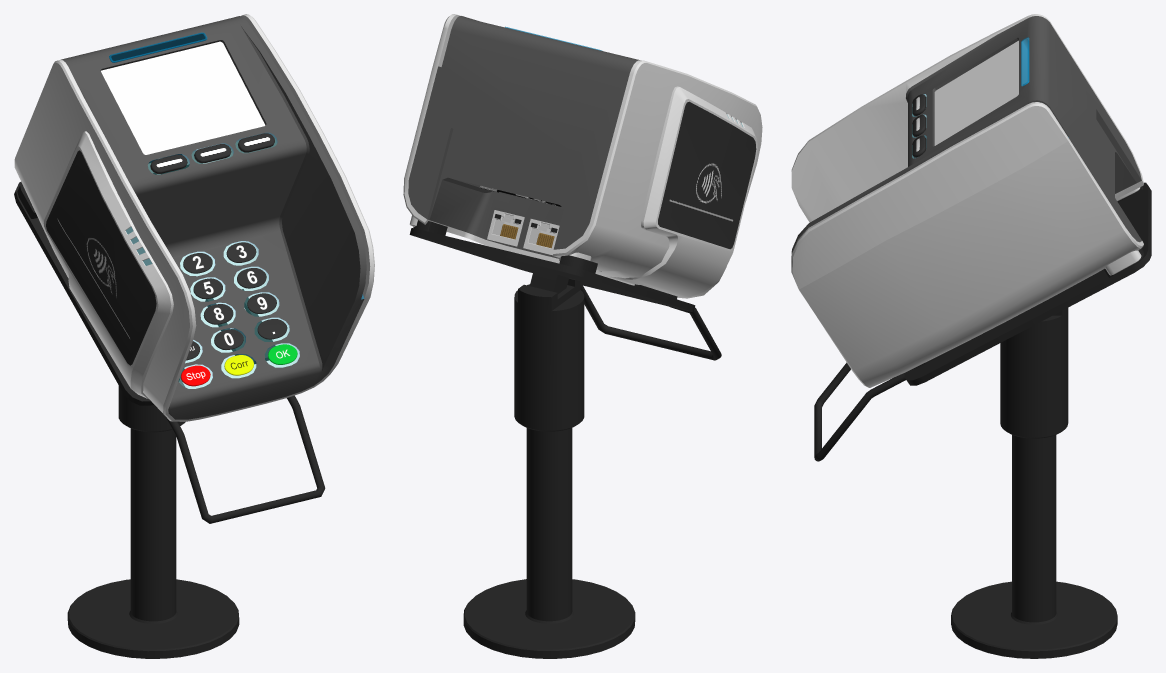
File: card_reader.glb
3 renders of one model, left to right at view 1: azimuth 30°, elevation 25°; view 2: azimuth 150°, elevation 25°; view 3: azimuth 270°, elevation 25°, orthographic. The views are drawn at different scales.
Visible parts, largest first — view 1: Frame, Stand, NFC reader, KeyPad, Attacher, KeyPadSelect, Rotator; view 2: Frame, Stand, NFC reader, Rotator, Attacher, Ethernet ports; view 3: Frame, Stand, Rotator, Attacher, KeyPadSelect.
Part boxes in pixels (bbox=[...]): Frame: bbox=[14, 14, 374, 421]; Stand: bbox=[67, 428, 239, 658]; NFC reader: bbox=[43, 131, 184, 398]; KeyPad: bbox=[181, 242, 297, 386]; Attacher: bbox=[14, 182, 325, 523]; KeyPadSelect: bbox=[150, 133, 274, 173]; Rotator: bbox=[118, 385, 185, 432]; Frame: bbox=[403, 14, 762, 298]; Stand: bbox=[463, 428, 635, 658]; NFC reader: bbox=[605, 86, 757, 297]; Rotator: bbox=[514, 278, 584, 431]; Attacher: bbox=[409, 220, 721, 360]; Ethernet ports: bbox=[487, 210, 559, 255]; Frame: bbox=[791, 14, 1143, 387]; Stand: bbox=[951, 435, 1117, 658]; Rotator: bbox=[1000, 308, 1068, 438]; Attacher: bbox=[814, 182, 1151, 461]; KeyPadSelect: bbox=[912, 94, 926, 157].
Size of the model in its own units: 0.8504 by 2.19 by 1.26.
Materials: 11 (3 with a texture image).
